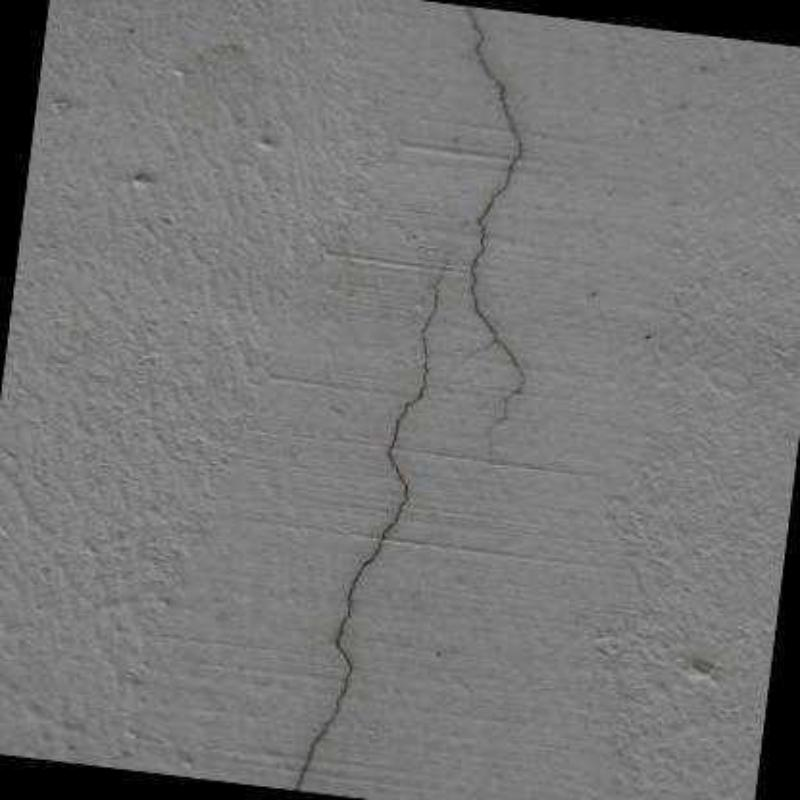pothole: (292, 264, 448, 791), (465, 4, 527, 446)
